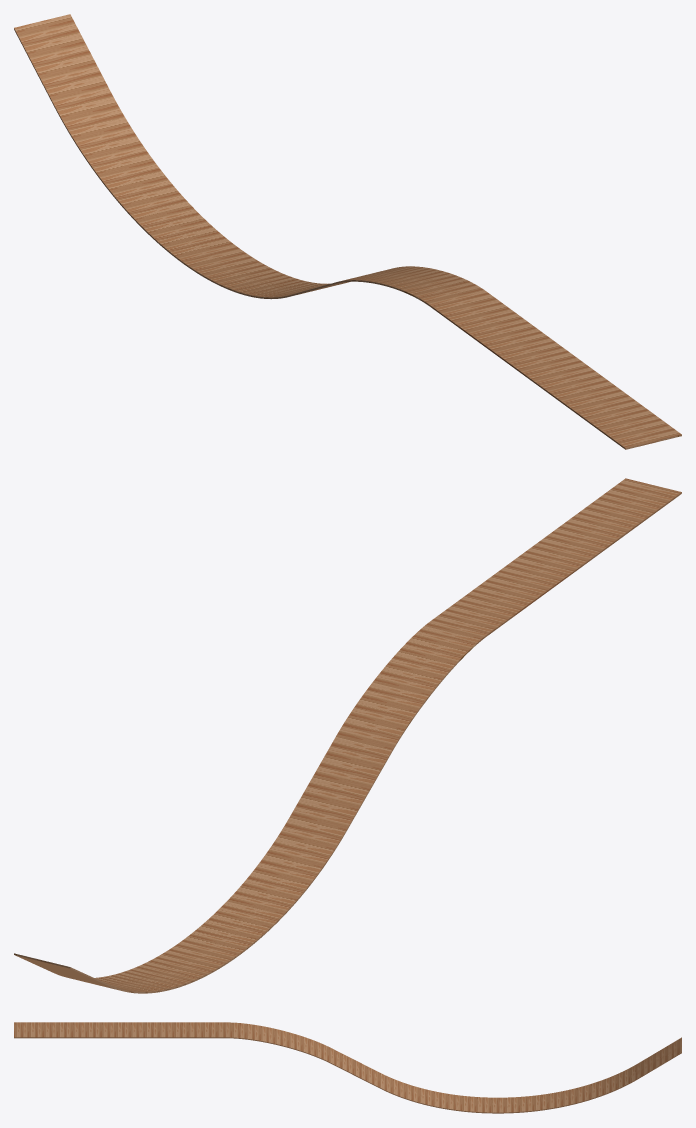
The model's file is test track9.fbx.
3 views of the same model, one above another, from view 1: azimuth 30°, elevation 25°; view 2: azimuth 150°, elevation 25°; view 3: azimuth 270°, elevation 25° (orthographic). The views are drawn at different scales.
Parts seen in each view (by area): view 1: Cube; view 2: Cube; view 3: Cube.
Part boxes in pixels (box(x1,y1,x2,y2)): Cube: box(14, 14, 681, 449); Cube: box(14, 478, 681, 993); Cube: box(14, 1022, 681, 1113).
Bounding box in the file's own units: 509 × 1202 × 9566.
1 material, 1 textured.
